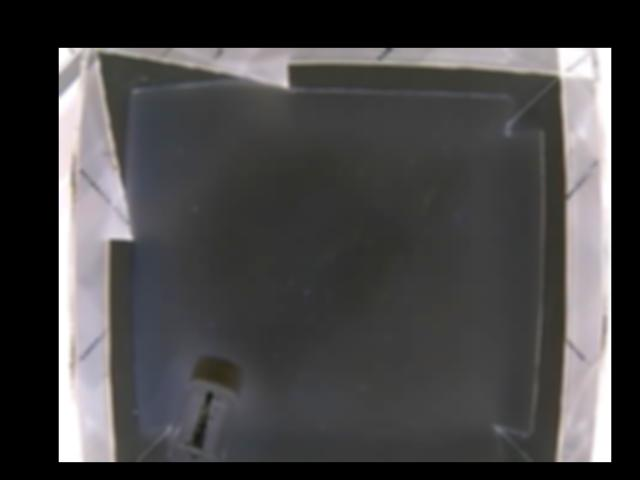Bottle: (173, 353, 244, 461)
